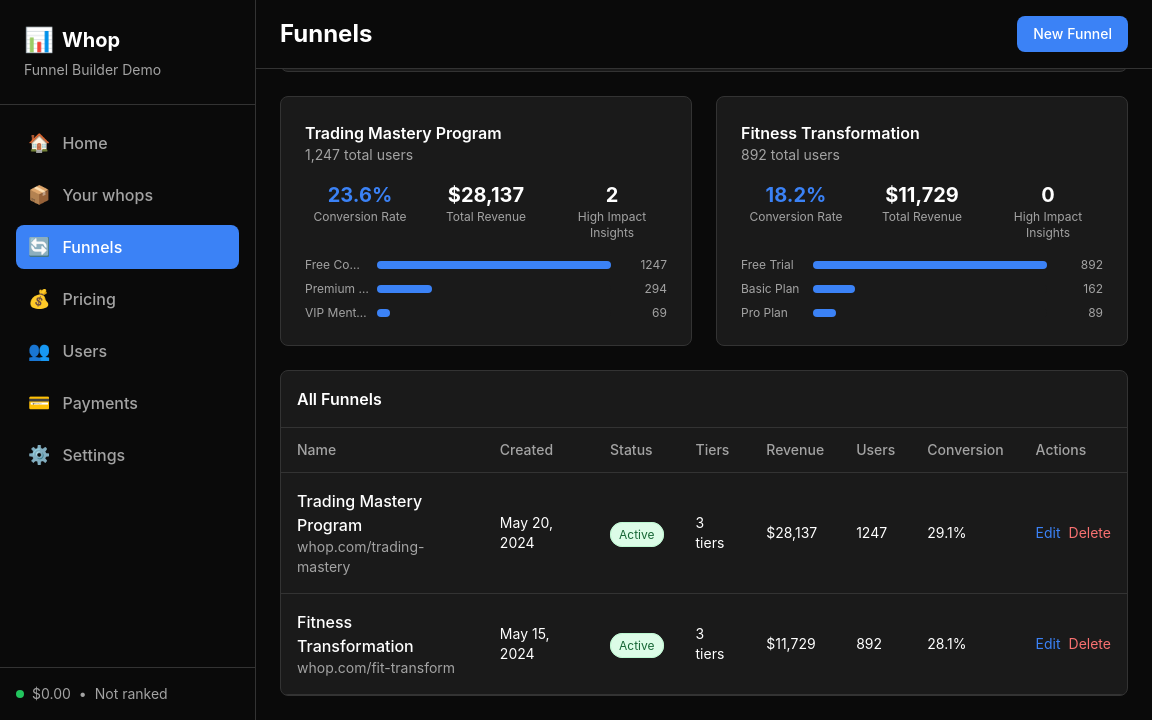
Test: App Integration Tests › deletes funnel with confirmation
(page scrolled)
Expected: the heading "Trading Mastery Program" is shown, [305,121,502,145]
Expected: the number of headings "Fitness Transformation" is 2, [741,121,920,145]; [297,612,414,656]
# Delete first funnel
Click the button "Delete" in the row of "whop.com/trading-mastery" at (1090, 533), box [1068,523,1111,543]
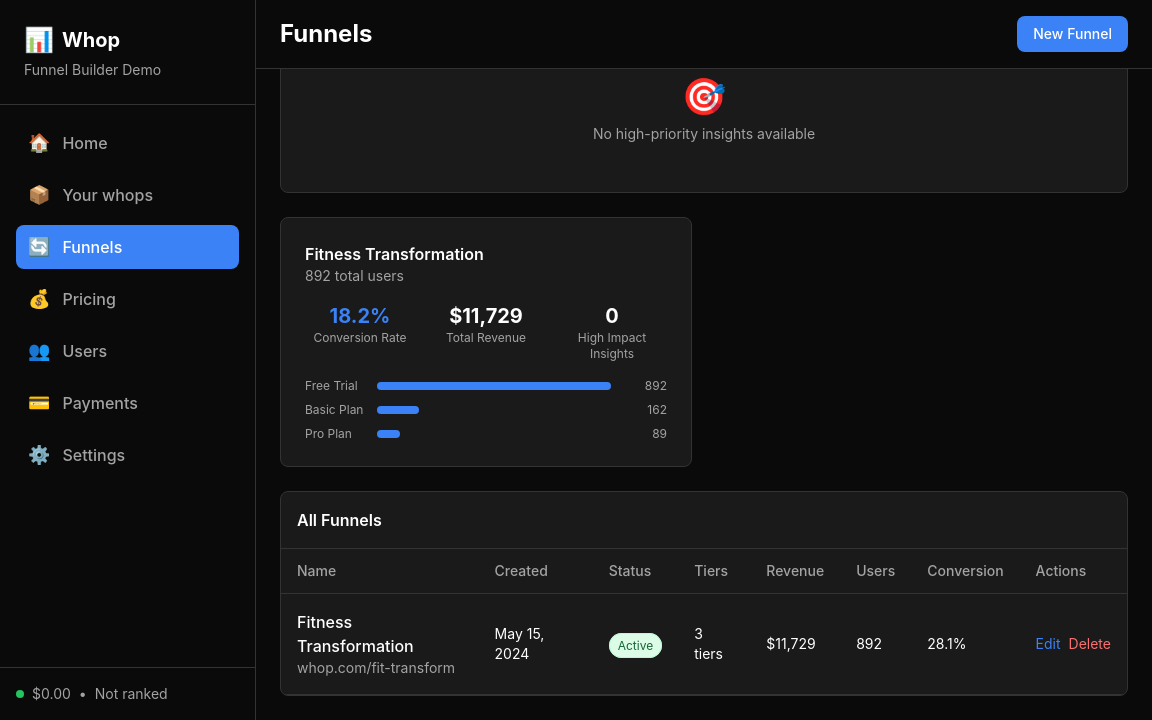
Expected: the heading "Trading Mastery Program" is gone
